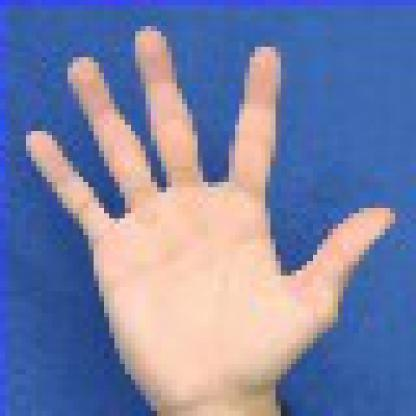five: (17, 18, 408, 416)
